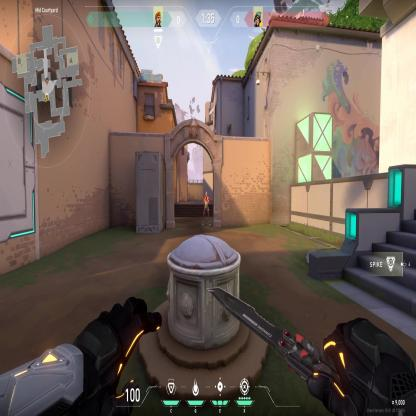enemy: (202, 191, 210, 226)
